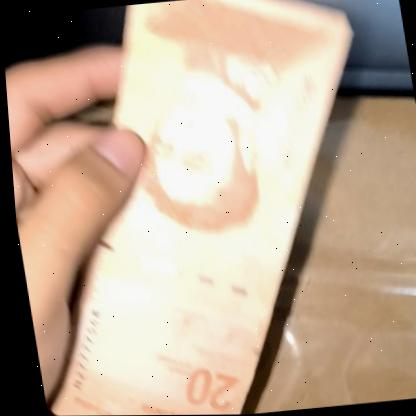twenty-front-vef: (5, 0, 406, 416)
